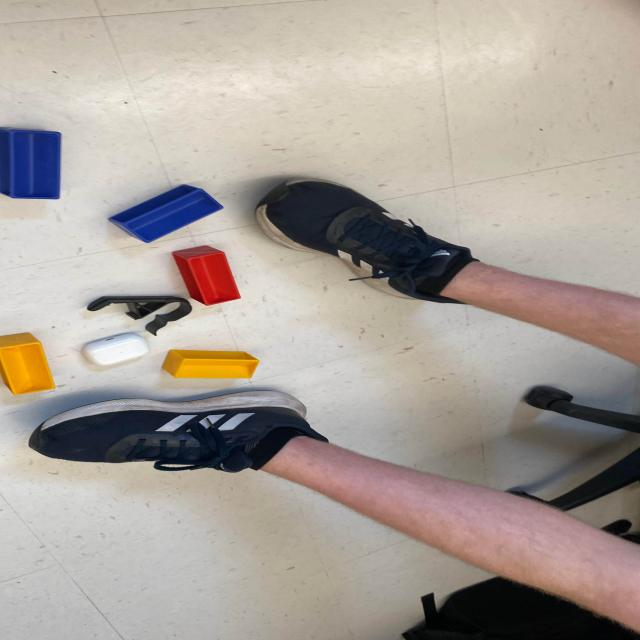blue-specimen: (109, 184, 224, 243), (0, 129, 61, 199)
red-specimen: (172, 245, 241, 306)
yellow-specimen: (0, 332, 56, 395), (162, 349, 260, 379)
